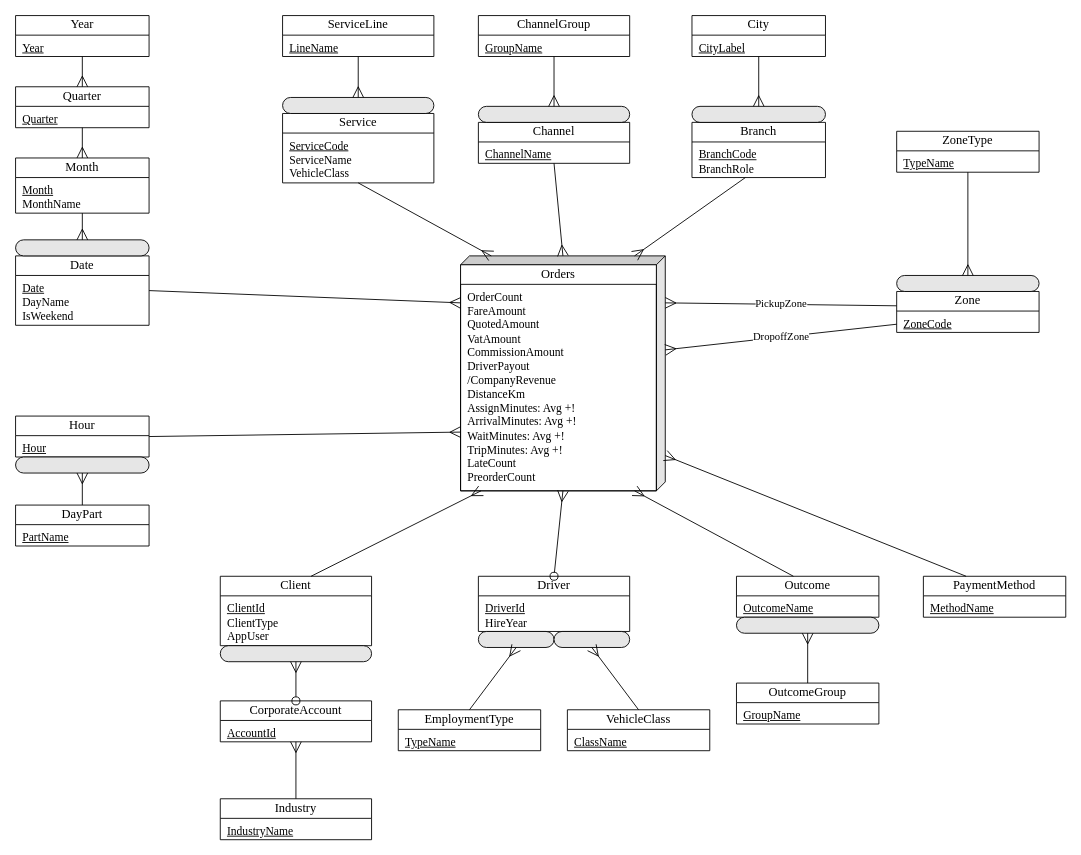
The diagram is 1081 pixels wide and 855 high, and some of its shapes have lost their labels. Here are the shapes that lost their labels. From the top down, the centre of each, then its label:
point (358, 105): Services
point (553, 113): Channels
point (758, 113): Geography
point (82, 247): Calendar
point (967, 283): ZoneTypes
point (82, 464): DayParts
point (515, 639): Employment
point (591, 639): Vehicles
point (807, 624): Outcomes
point (295, 653): Accounts
